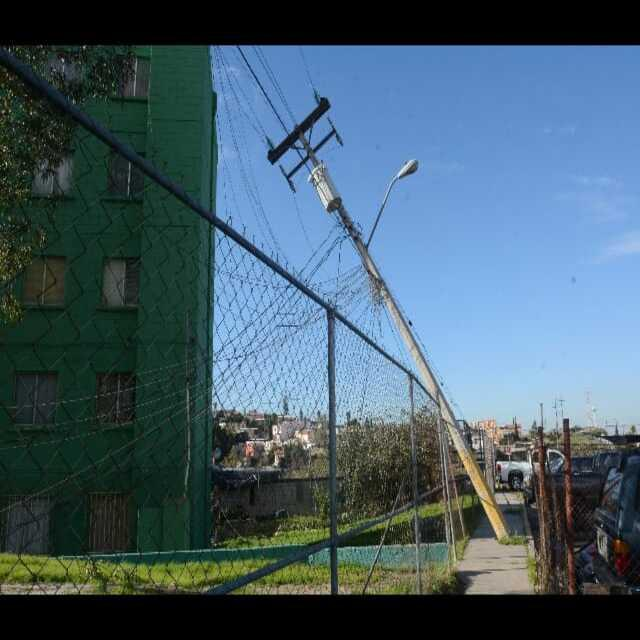Inclined Pole: (258, 84, 517, 549)
